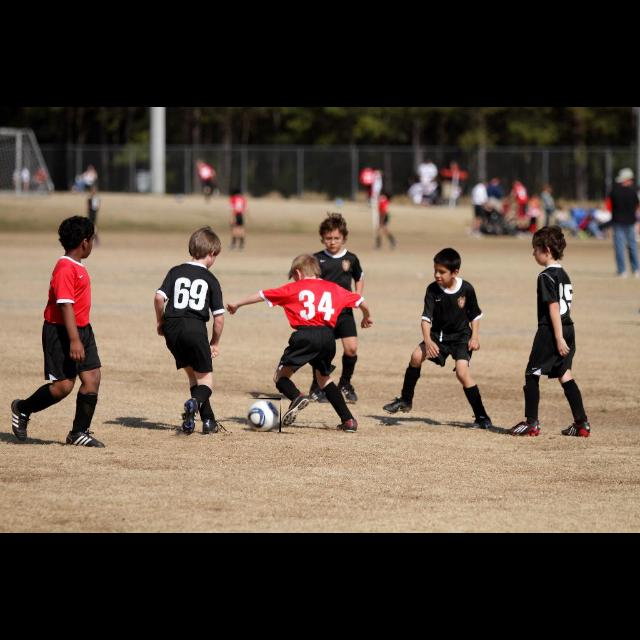Football: (245, 398, 281, 432)
